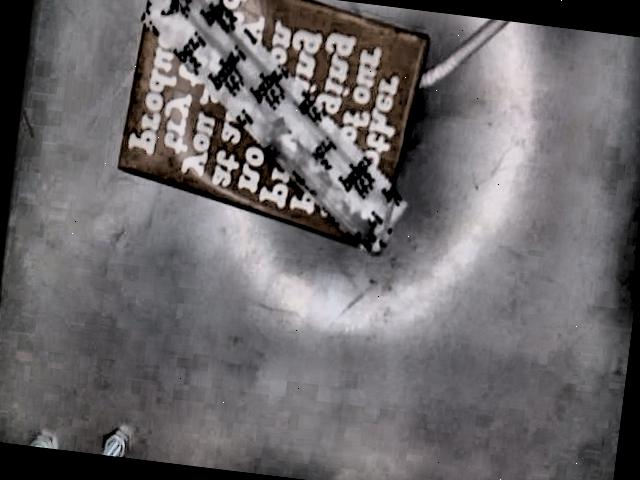Paper: (117, 0, 508, 251)
